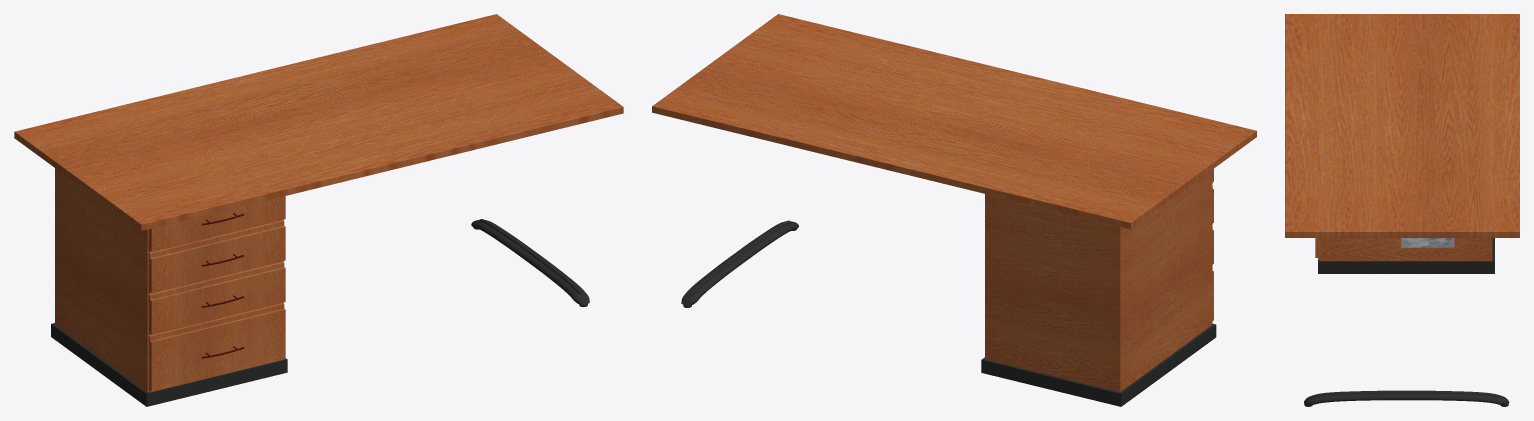
File: table.FBX
3 renders of one model, left to right at view 1: azimuth 30°, elevation 25°; view 2: azimuth 150°, elevation 25°; view 3: azimuth 270°, elevation 25°, orthographic. The views are drawn at different scales.
Visible parts, largest first — view 1: Top, Box04, Box02, Box03, Box01; view 2: Top; view 3: Top.
Part boxes in pixels (x1,y1,x2,y2): Top: [14, 14, 623, 406]; Box04: [148, 303, 285, 392]; Box02: [148, 220, 285, 293]; Box03: [148, 261, 285, 335]; Box01: [148, 196, 285, 252]; Top: [652, 14, 1256, 406]; Top: [1285, 14, 1519, 406].
Size of the model in its own units: 195 by 77.68 by 88.9.
